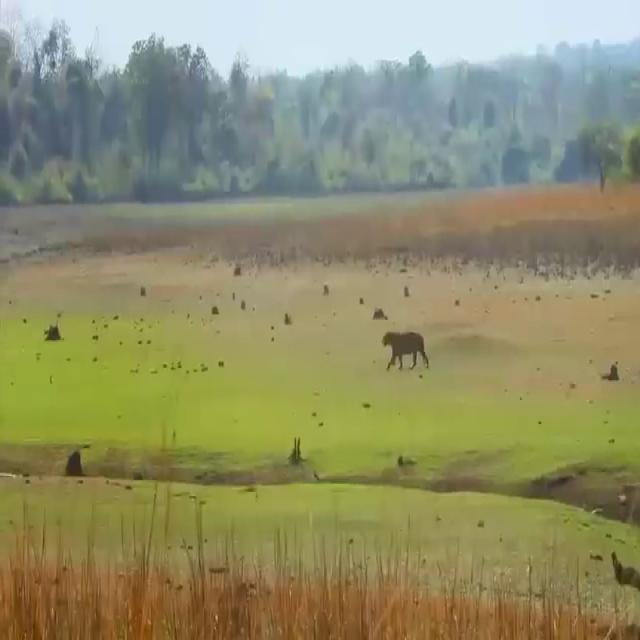tiger: (381, 330, 430, 371)
